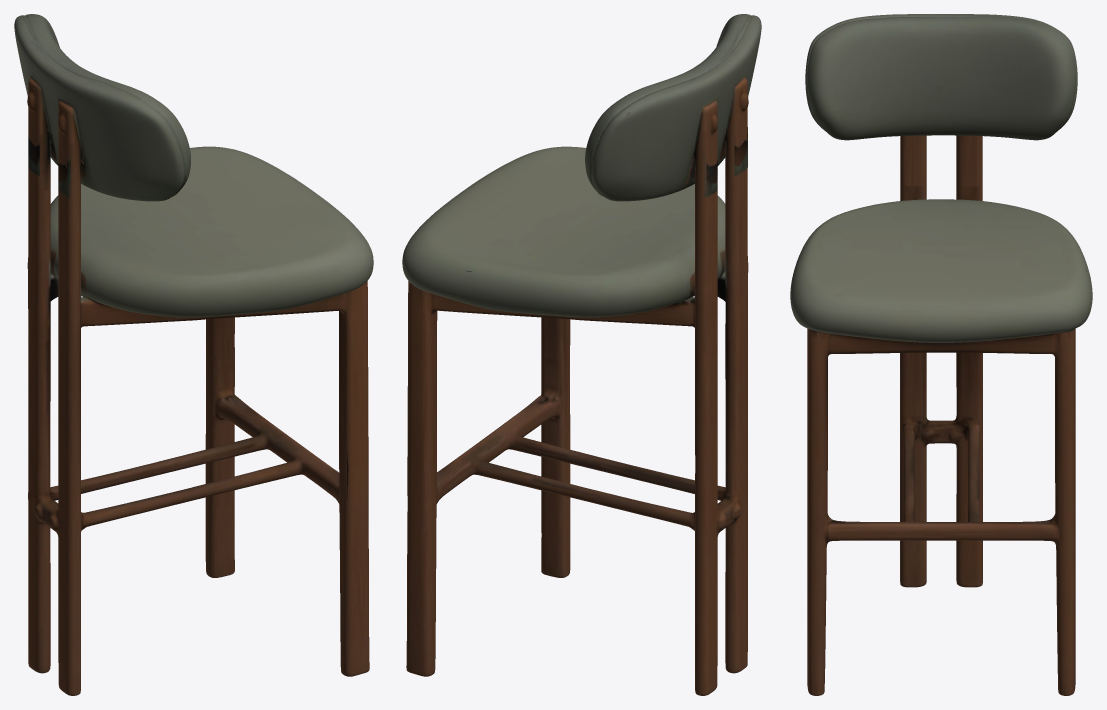
Rendered from cb_semistool_pasadena.glb.
The picture shows the model from 3 angles, left to right: view 1: azimuth 30°, elevation 25°; view 2: azimuth 150°, elevation 25°; view 3: azimuth 270°, elevation 25°; orthographic projection. The views are drawn at different scales.
Visible parts, largest first — view 1: cb_semistool_pasadena_t0; view 2: cb_semistool_pasadena_t0; view 3: cb_semistool_pasadena_t0.
Boxes of the visible parts, x1,y1,x2,y2 form: cb_semistool_pasadena_t0: (14, 14, 373, 695); cb_semistool_pasadena_t0: (402, 14, 761, 695); cb_semistool_pasadena_t0: (790, 14, 1092, 695).
Bounding box in the file's own units: 0.4527 × 0.95 × 0.4532.
Materials: 1 (1 with a texture image).
